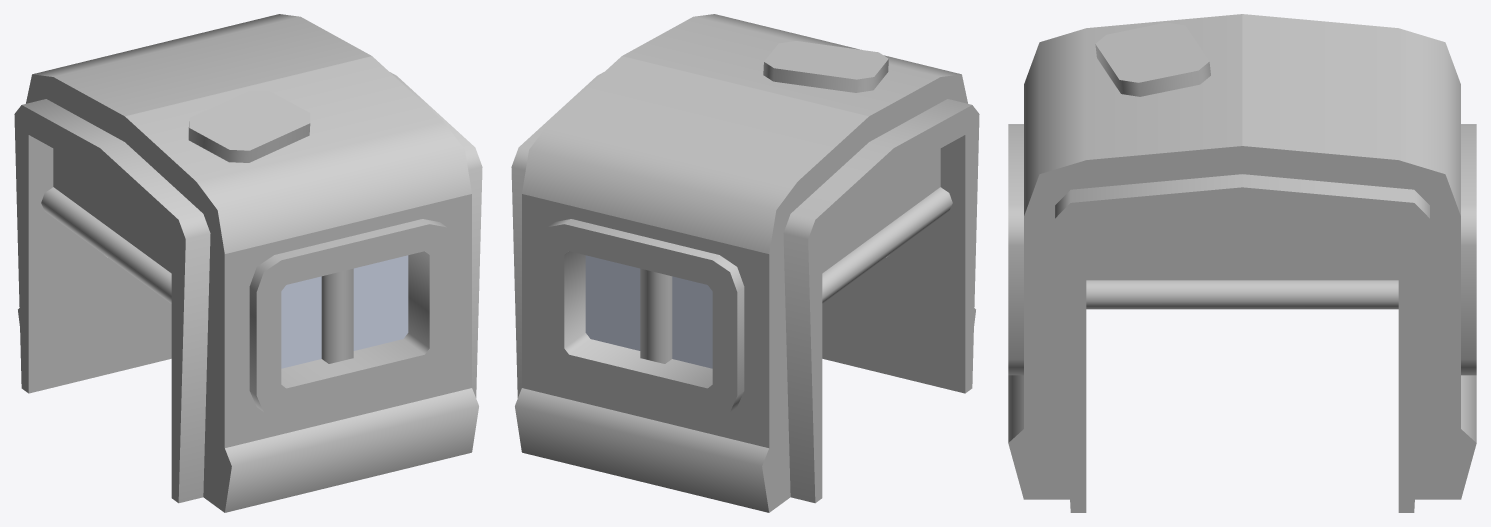
Rendered from machine-window-bar.obj.
3 views of the same model, side by side, from view 1: azimuth 30°, elevation 25°; view 2: azimuth 150°, elevation 25°; view 3: azimuth 270°, elevation 25° (orthographic). The views are drawn at different scales.
Visible parts, largest first — view 1: machine-window-bar; view 2: machine-window-bar; view 3: machine-window-bar.
Boxes of the visible parts, x1=… form: machine-window-bar: x1=14, y1=14, x2=482, y2=512; machine-window-bar: x1=511, y1=14, x2=979, y2=512; machine-window-bar: x1=1008, y1=14, x2=1476, y2=512.
Size of the model in its own units: 1.2 by 1.29 by 1.5.
